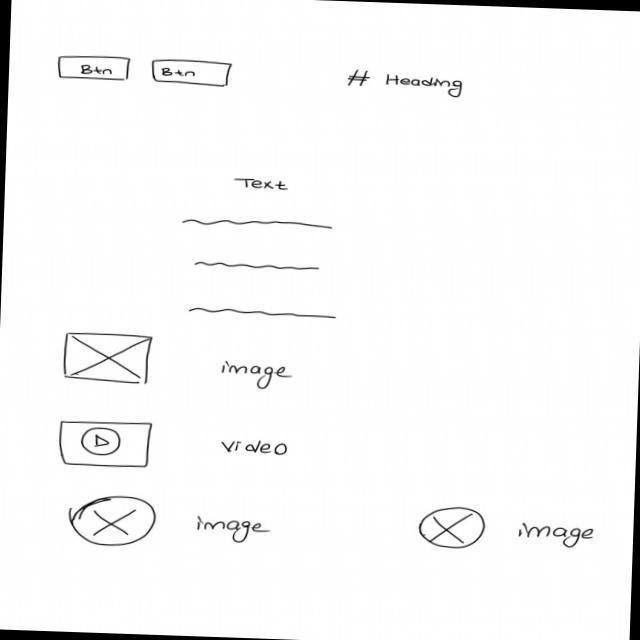button: (151, 59, 233, 89), (55, 54, 134, 83)
image: (66, 493, 160, 550), (61, 331, 154, 388), (418, 505, 489, 551)
label: (346, 67, 467, 101), (217, 360, 297, 394), (193, 514, 271, 547), (515, 522, 599, 552), (220, 438, 292, 458), (233, 176, 291, 193)
text: (187, 305, 340, 324), (181, 217, 338, 234), (195, 259, 325, 276)
